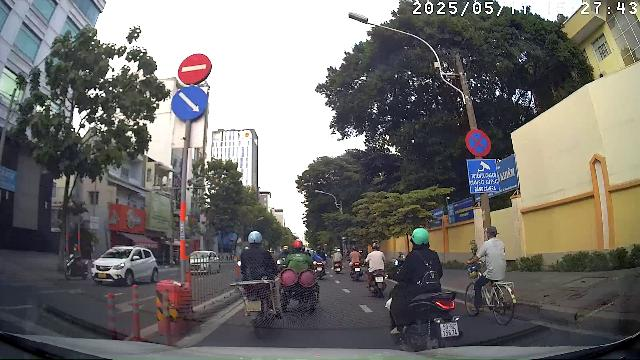102-cam-di-nguoc-chieu: (177, 53, 213, 85)
130-cam-dung-va-do-xe: (465, 129, 491, 157)
302a-huong-phai-di-vong-chuong-ngai-vat-1: (171, 86, 209, 120)
